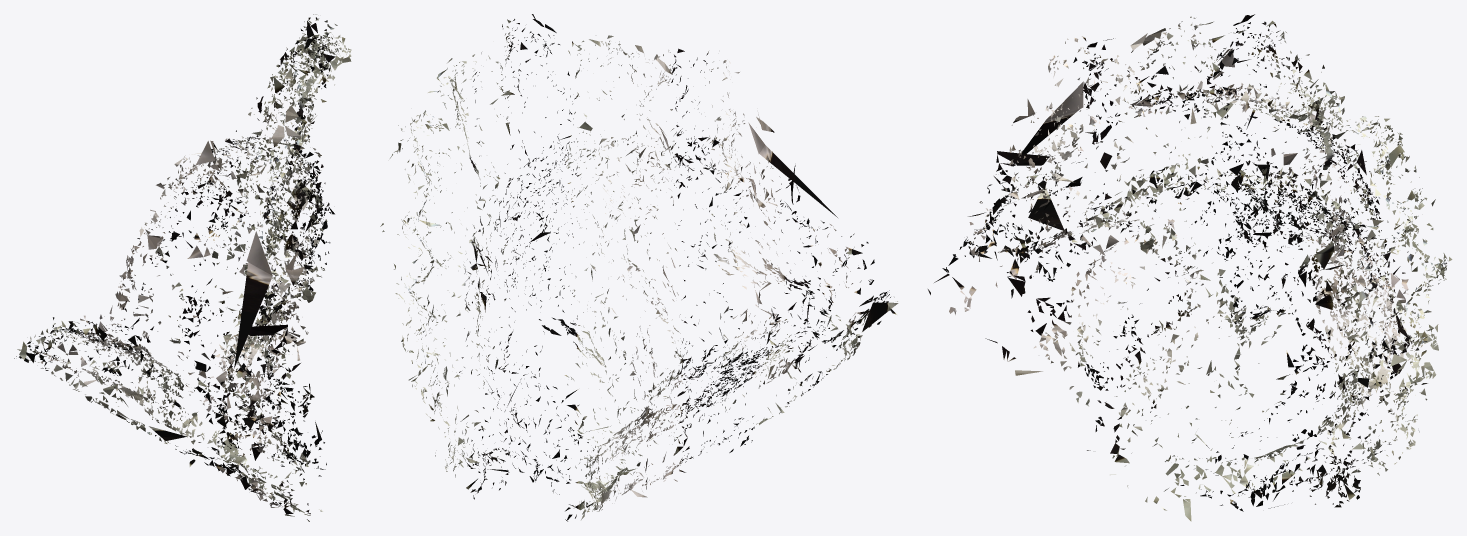
The picture shows the model from 3 angles, left to right: view 1: azimuth 30°, elevation 25°; view 2: azimuth 150°, elevation 25°; view 3: azimuth 270°, elevation 25°; orthographic projection. The views are drawn at different scales.
Parts seen in each view (by area): view 1: test1; view 2: test1; view 3: test1.
Boxes of the visible parts, x1,y1,x2,y2 form: test1: (14, 14, 351, 521); test1: (380, 14, 898, 521); test1: (928, 14, 1452, 521).
Size of the model in its own units: 1.18 by 1.49 by 1.34.
1 material, 1 textured.
